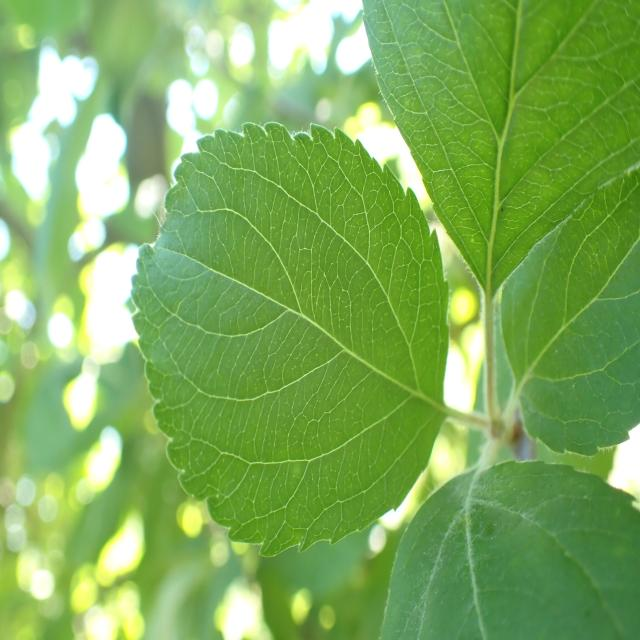healthy: (126, 118, 450, 560), (362, 0, 640, 455), (380, 459, 639, 640)
